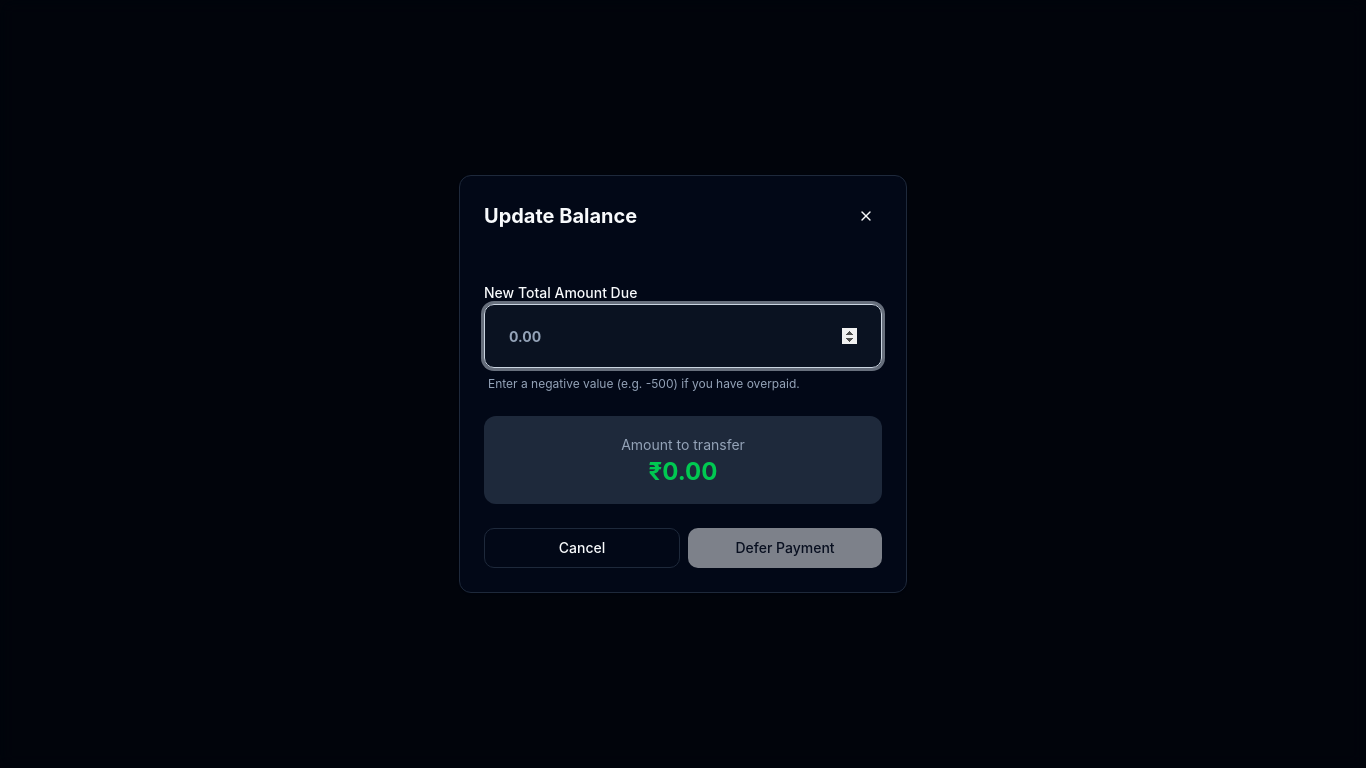
Test: UpdateTransactionModal › shows negative delta when new amount is less than current
Type "500" into the number field with placeholder "0.00" at coordinates (683, 336), box [484, 304, 882, 368]
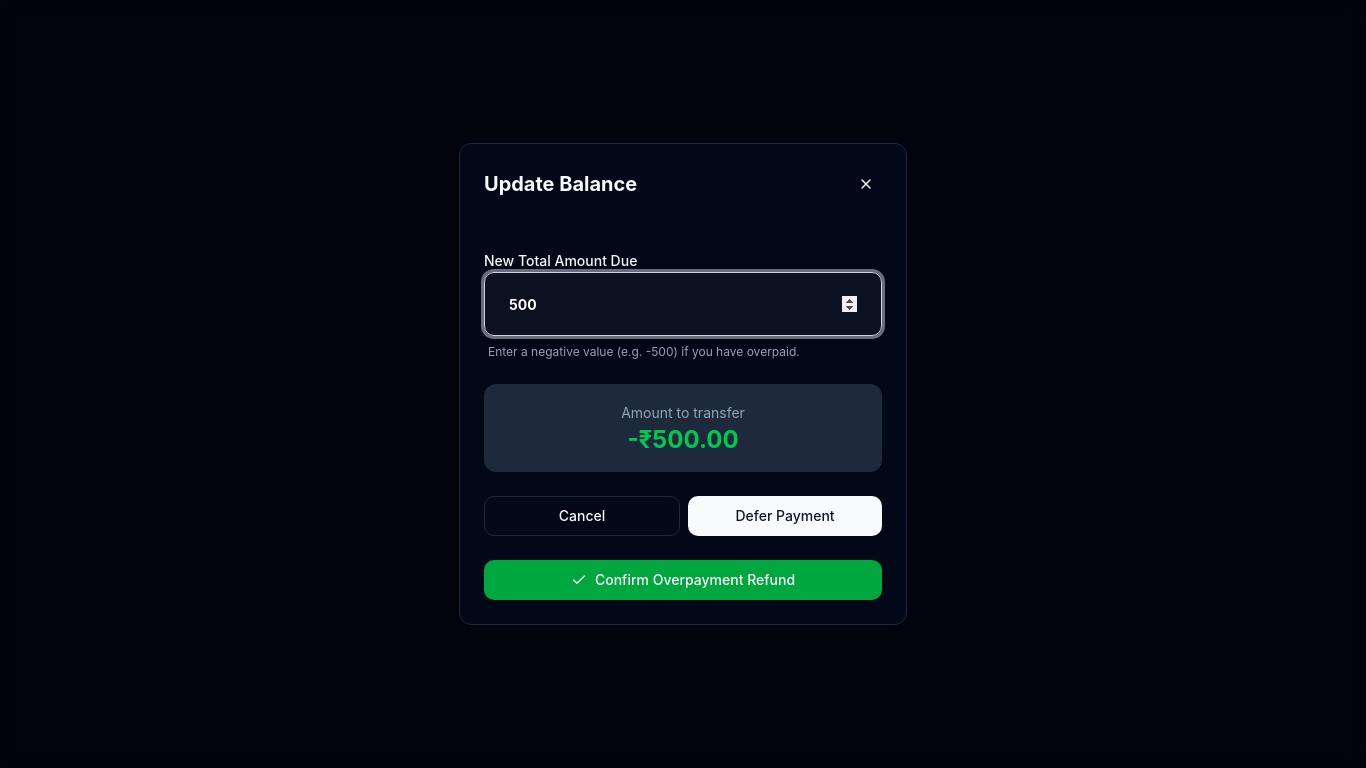
Expected: the text "Amount to transfer" is shown, [621, 404, 745, 421]
Expected: the text "-₹500.00" is shown, [627, 425, 739, 454]
